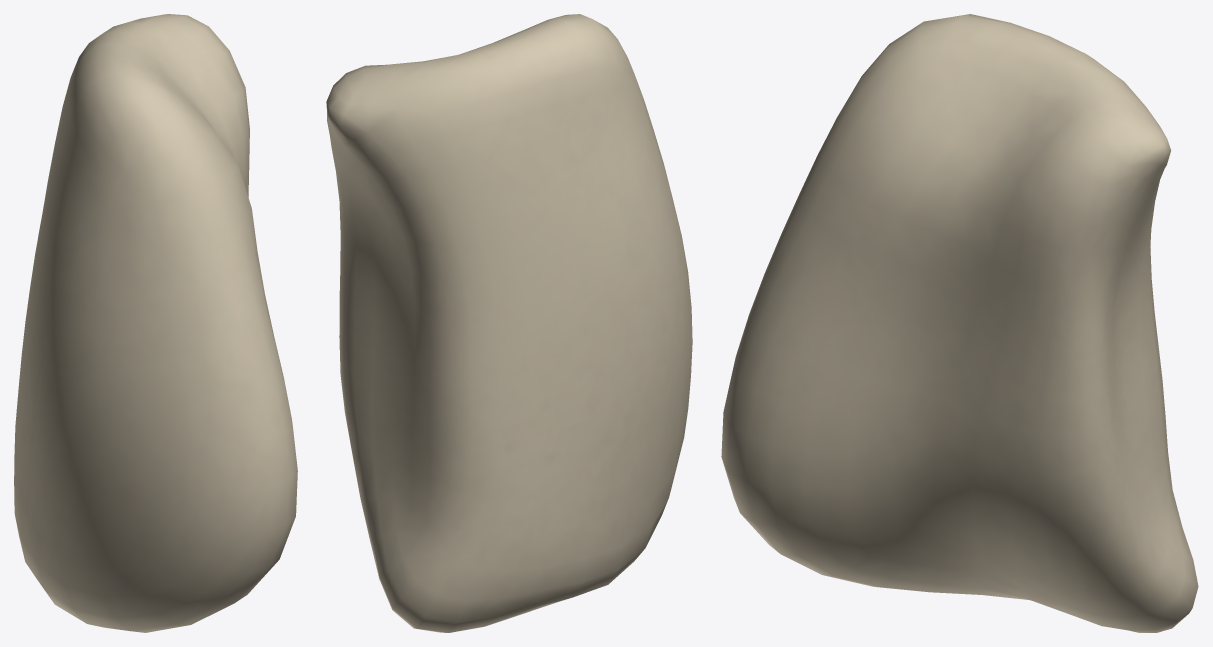
Rendered from R carpale quartum.fbx.
3 renders of one model, left to right at view 1: azimuth 30°, elevation 25°; view 2: azimuth 150°, elevation 25°; view 3: azimuth 270°, elevation 25°, orthographic. The views are drawn at different scales.
Visible parts, largest first — view 1: R carpale quartum; view 2: R carpale quartum; view 3: R carpale quartum.
Boxes of the visible parts, x1=… form: R carpale quartum: x1=14, y1=14, x2=297, y2=632; R carpale quartum: x1=326, y1=14, x2=692, y2=632; R carpale quartum: x1=721, y1=14, x2=1198, y2=632.
Bounding box in the file's own units: 1.29 × 2.61 × 1.91.
